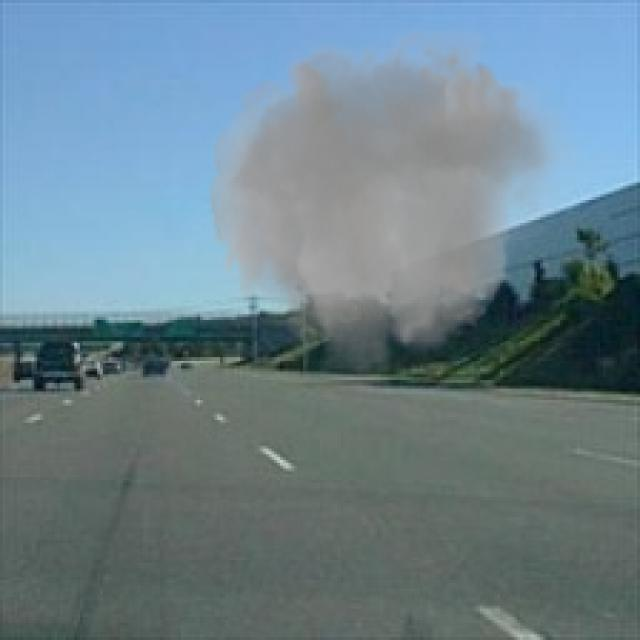Smoke: (200, 12, 583, 397)
